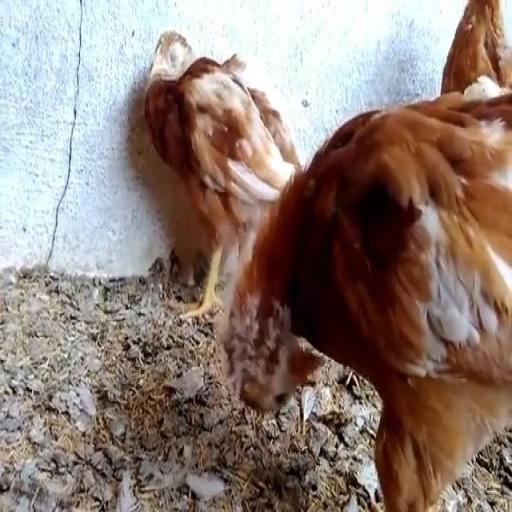disease: (143, 24, 189, 86)
